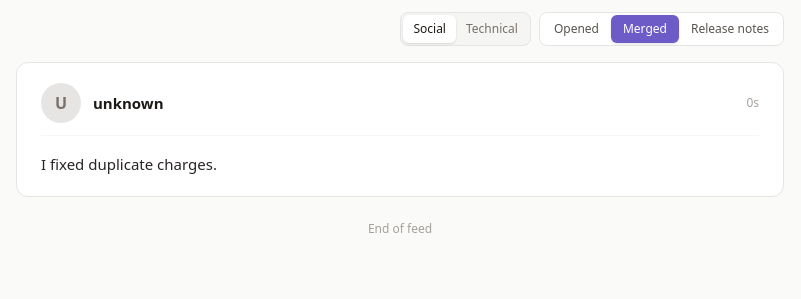
Test: PostsTab › switches Opened and Merged cards between social and technical copy without refetching
Expected: the text "I fixed duplicate charges." is shown, [41,154,217,174]
Click the button "Technical" at (492, 29), box [456,15,528,43]
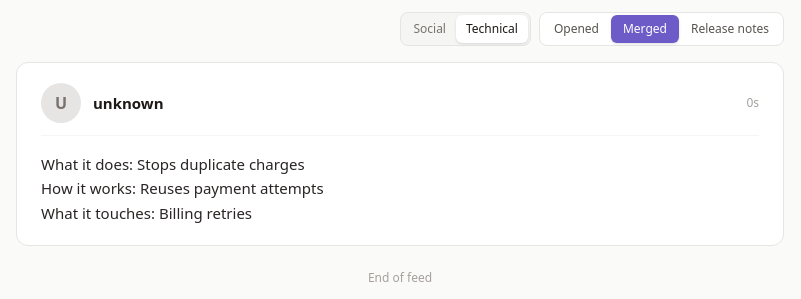
Now the text "What it does: Stops duplicate charges" is shown, box [41,154,324,223]
